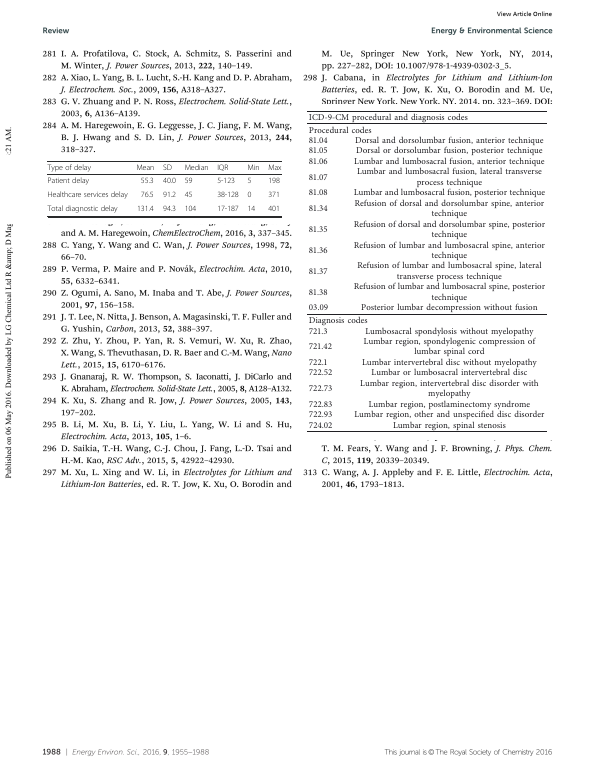borderless: (306, 109, 547, 431), (46, 160, 281, 216)
cell: (352, 282, 546, 304), (356, 167, 542, 189), (352, 220, 546, 241), (352, 241, 546, 262), (353, 199, 545, 220), (356, 262, 542, 283), (359, 379, 539, 400), (362, 337, 536, 358), (352, 188, 546, 199), (353, 157, 545, 168), (353, 410, 545, 421), (354, 136, 544, 147), (360, 303, 538, 314), (361, 358, 537, 369), (355, 147, 543, 157), (307, 113, 468, 124), (370, 368, 528, 379), (364, 327, 534, 337), (367, 400, 531, 410), (392, 421, 506, 431), (47, 191, 129, 201), (47, 205, 119, 215), (307, 316, 368, 327), (307, 126, 372, 136), (47, 177, 90, 187), (47, 164, 92, 173), (307, 342, 333, 353), (307, 368, 333, 379), (307, 384, 333, 395), (307, 410, 333, 421), (307, 400, 333, 410), (307, 421, 333, 431), (307, 303, 329, 314), (216, 191, 240, 201), (216, 205, 240, 215), (307, 136, 328, 147), (307, 157, 328, 168), (307, 188, 328, 199), (307, 204, 328, 215), (307, 225, 328, 236), (307, 246, 328, 257), (307, 358, 328, 369), (184, 164, 209, 173), (307, 147, 328, 157), (307, 173, 328, 183), (307, 267, 328, 277), (307, 288, 328, 298), (307, 327, 328, 337), (216, 177, 236, 187), (136, 205, 155, 215), (135, 164, 155, 173), (140, 177, 155, 187), (162, 177, 177, 187), (140, 191, 155, 201), (162, 191, 177, 201), (162, 205, 177, 215), (267, 177, 281, 187), (267, 191, 281, 201), (267, 205, 281, 215), (267, 164, 282, 173), (184, 205, 197, 215), (246, 164, 260, 173), (216, 164, 229, 173), (246, 205, 256, 215), (162, 164, 173, 173), (184, 177, 193, 187), (184, 191, 193, 201), (246, 177, 252, 187), (246, 191, 252, 201)
